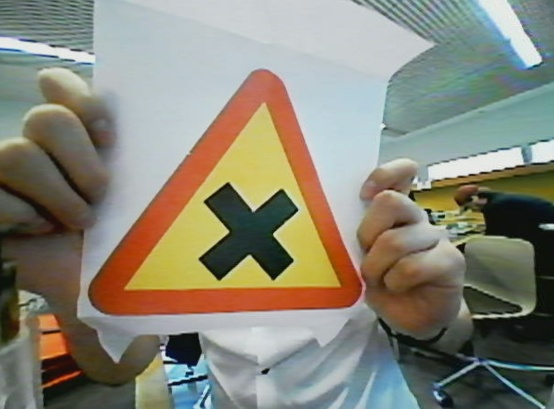junction: (99, 66, 400, 333)
